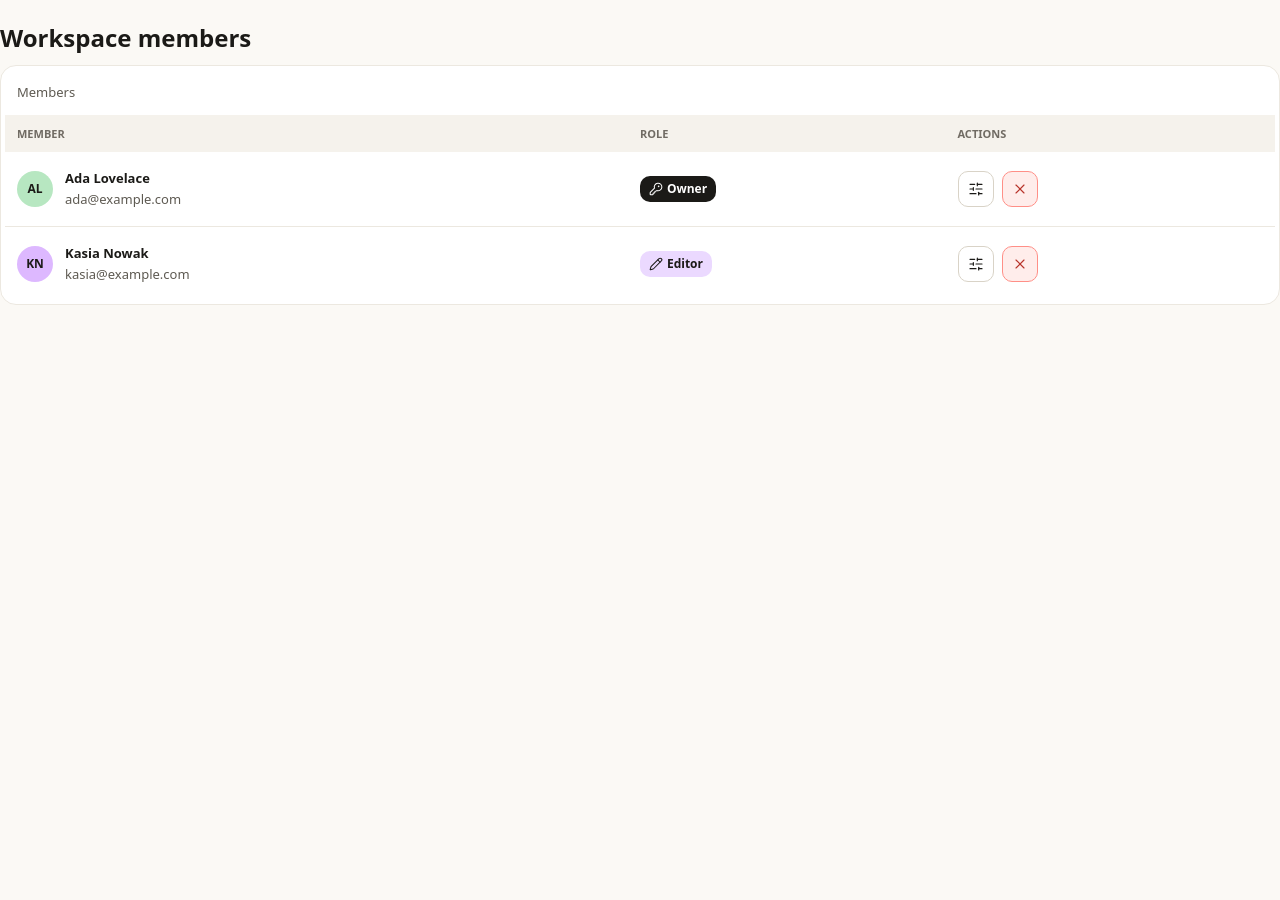
confirms removal with neutral copy, returns focus on Keep and Esc, and preserves last-owner errors
The image size is (1280, 900).
Click the button named "Remove Ada Lovelace" at (1020,189), box [1002,171,1038,207]
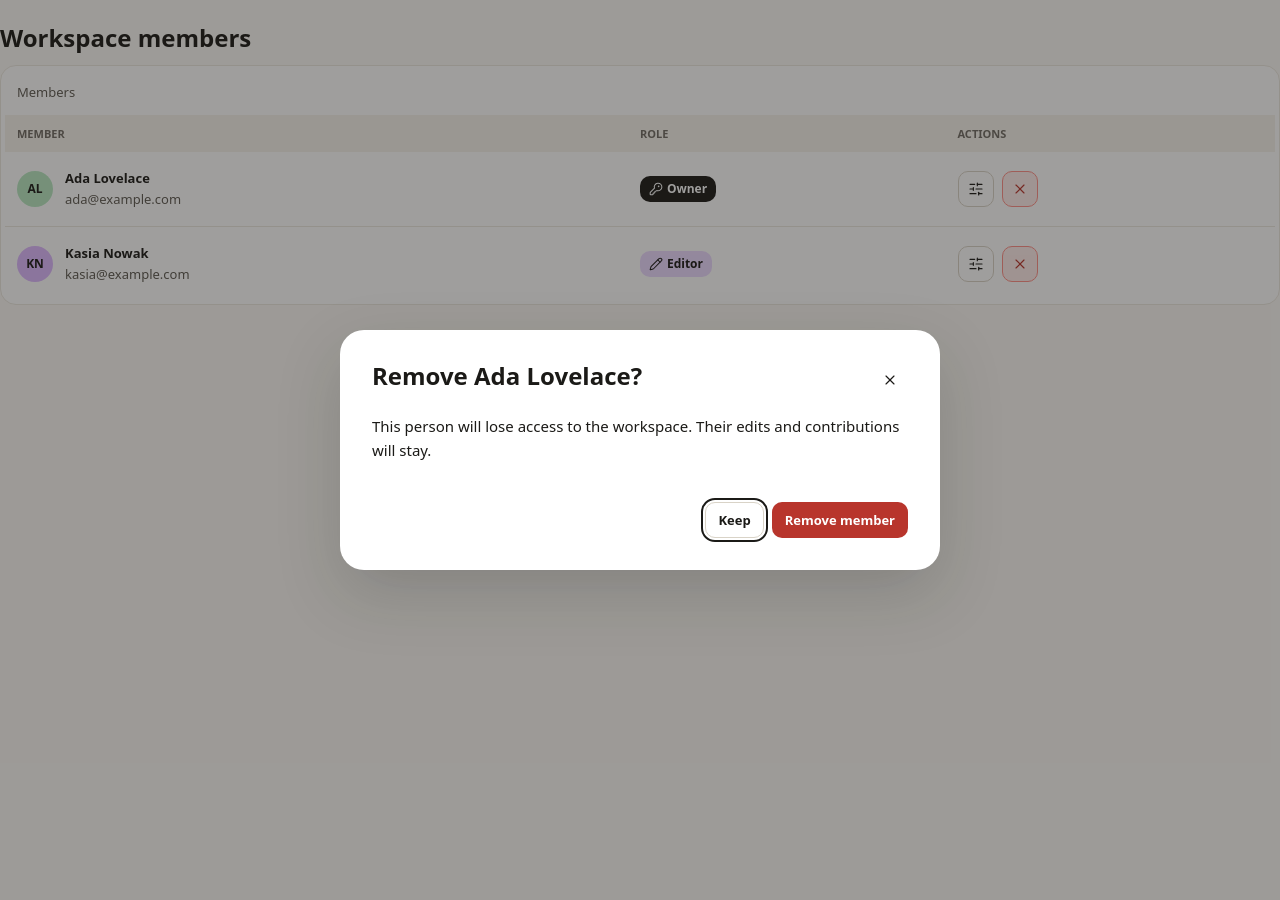
Expected: the dialog "Remove Ada Lovelace?" shows "This person will lose access", [372,416,899,460]
Expected: the dialog "Remove Ada Lovelace?" shows "Their edits and contributions will stay.", [372,416,899,460]
Click the button "Keep" at (735,520), box [706,502,764,538]
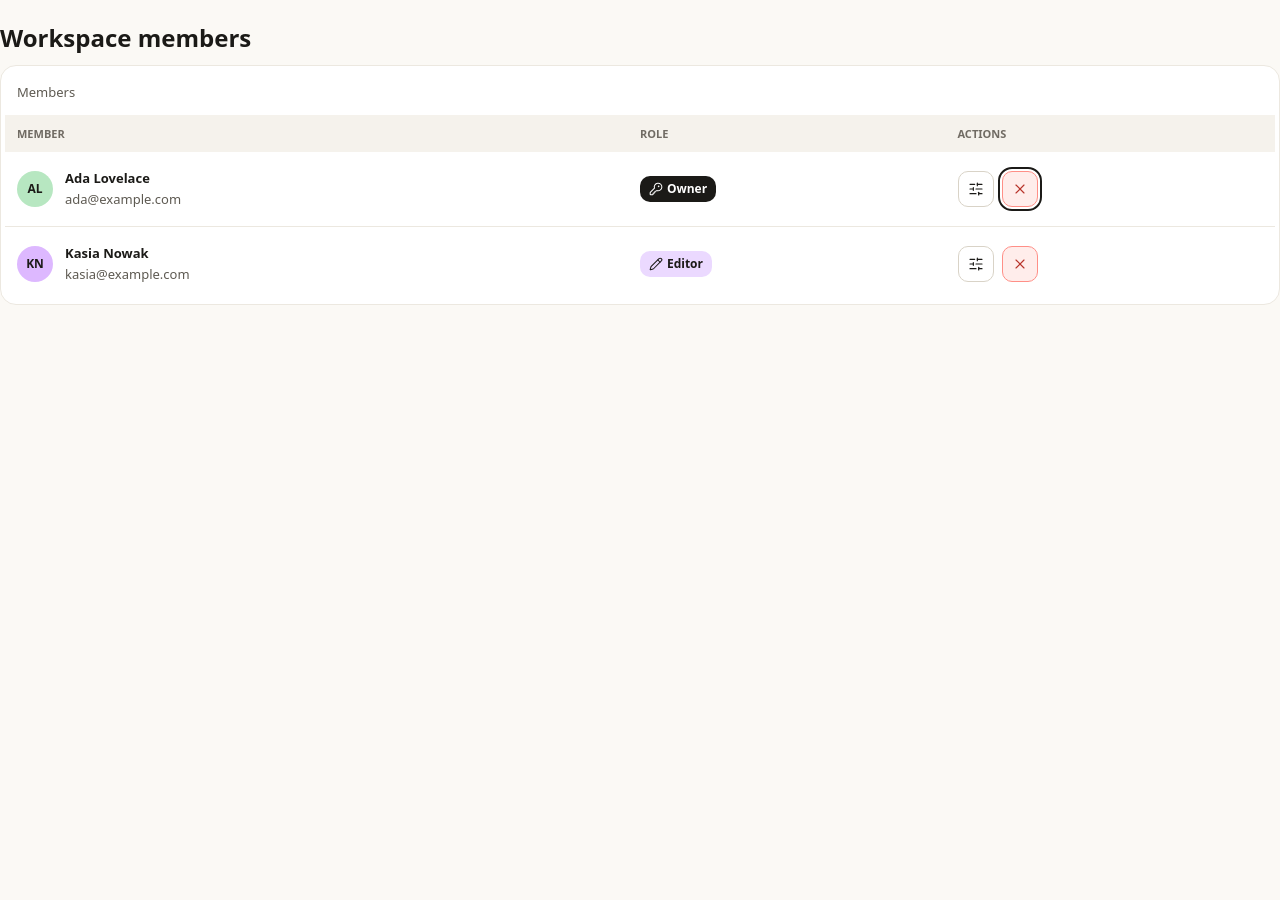
Click the button named "Remove Ada Lovelace" at (1020,189), box [1002,171,1038,207]
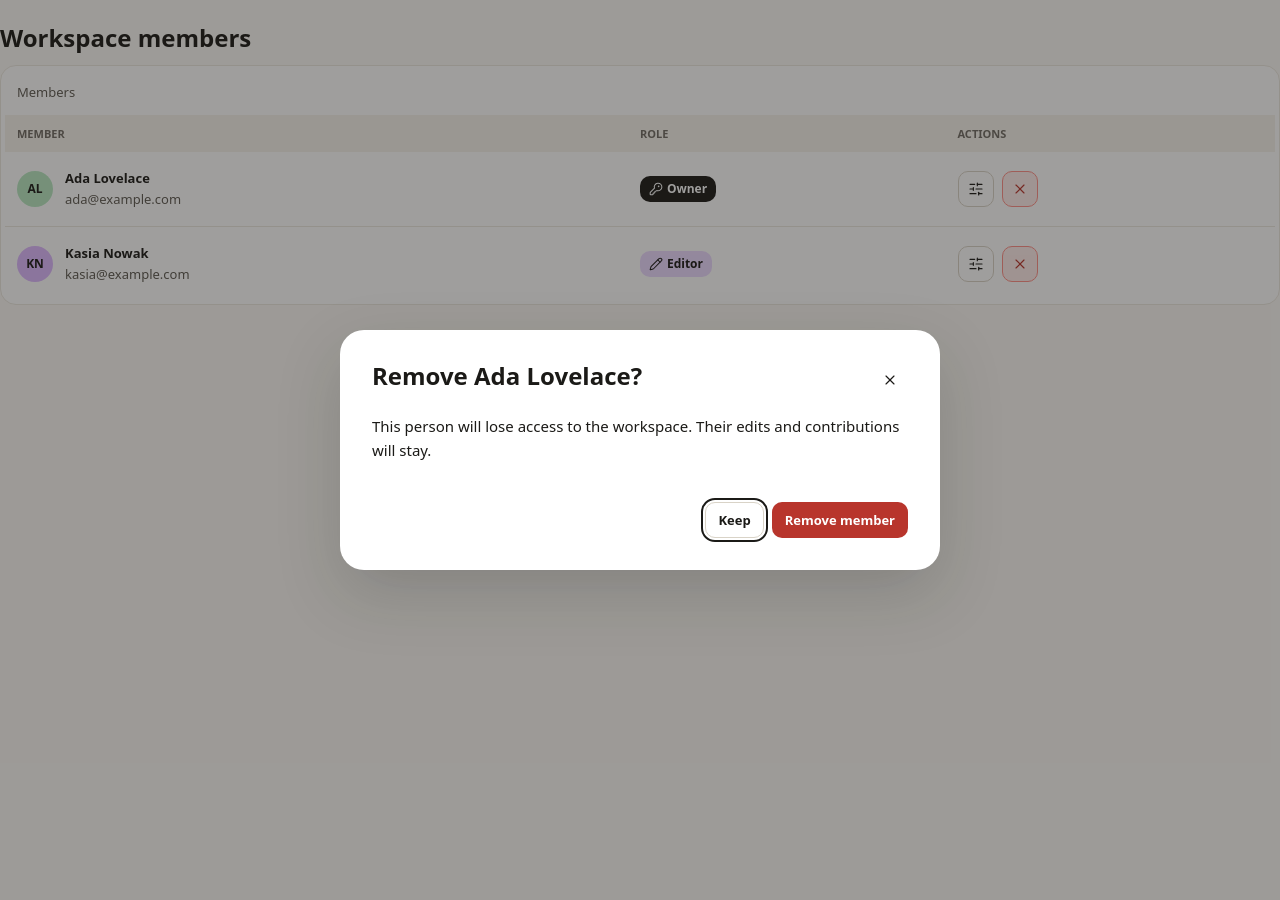
Press Escape
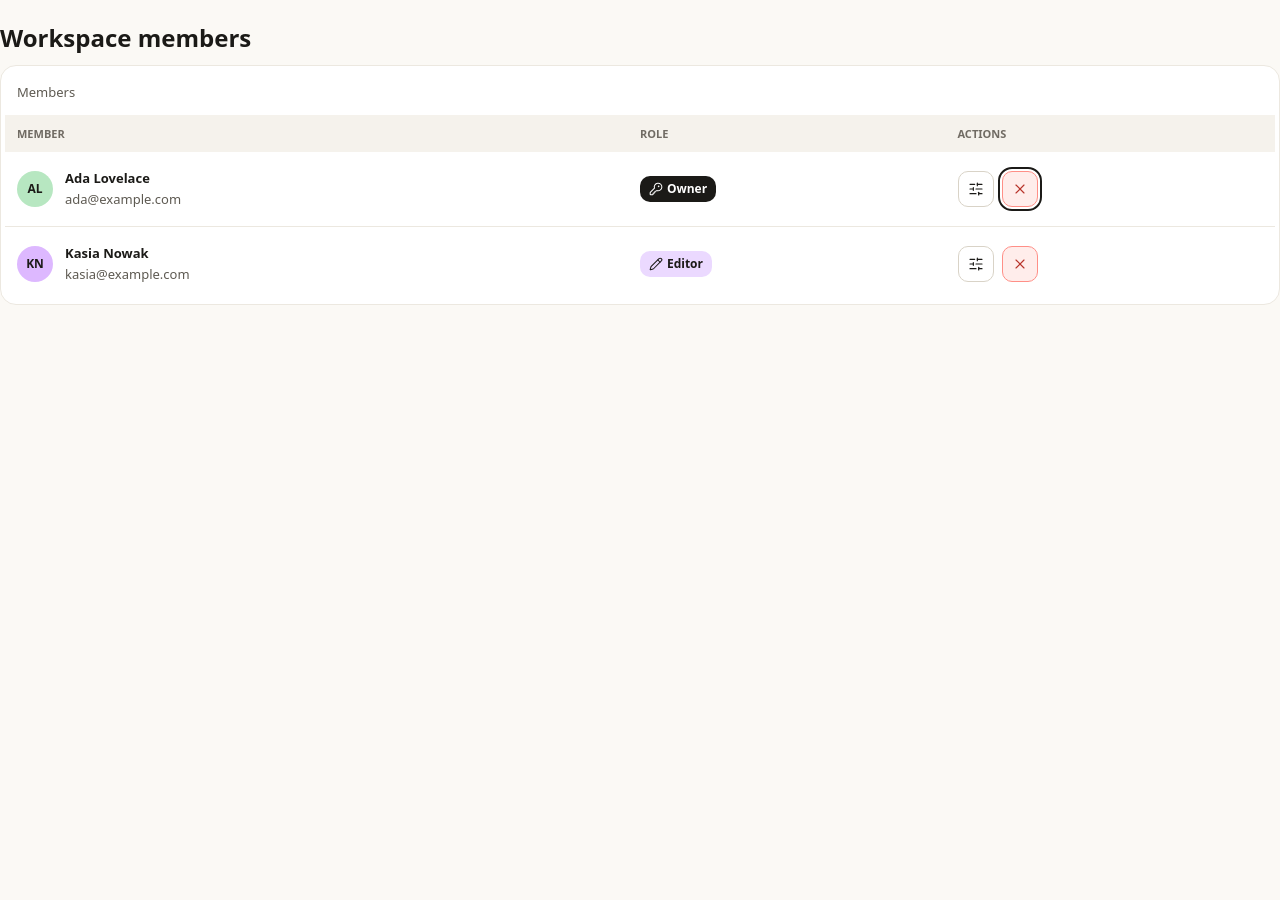
Click the button named "Remove Ada Lovelace" at (1020,189), box [1002,171,1038,207]
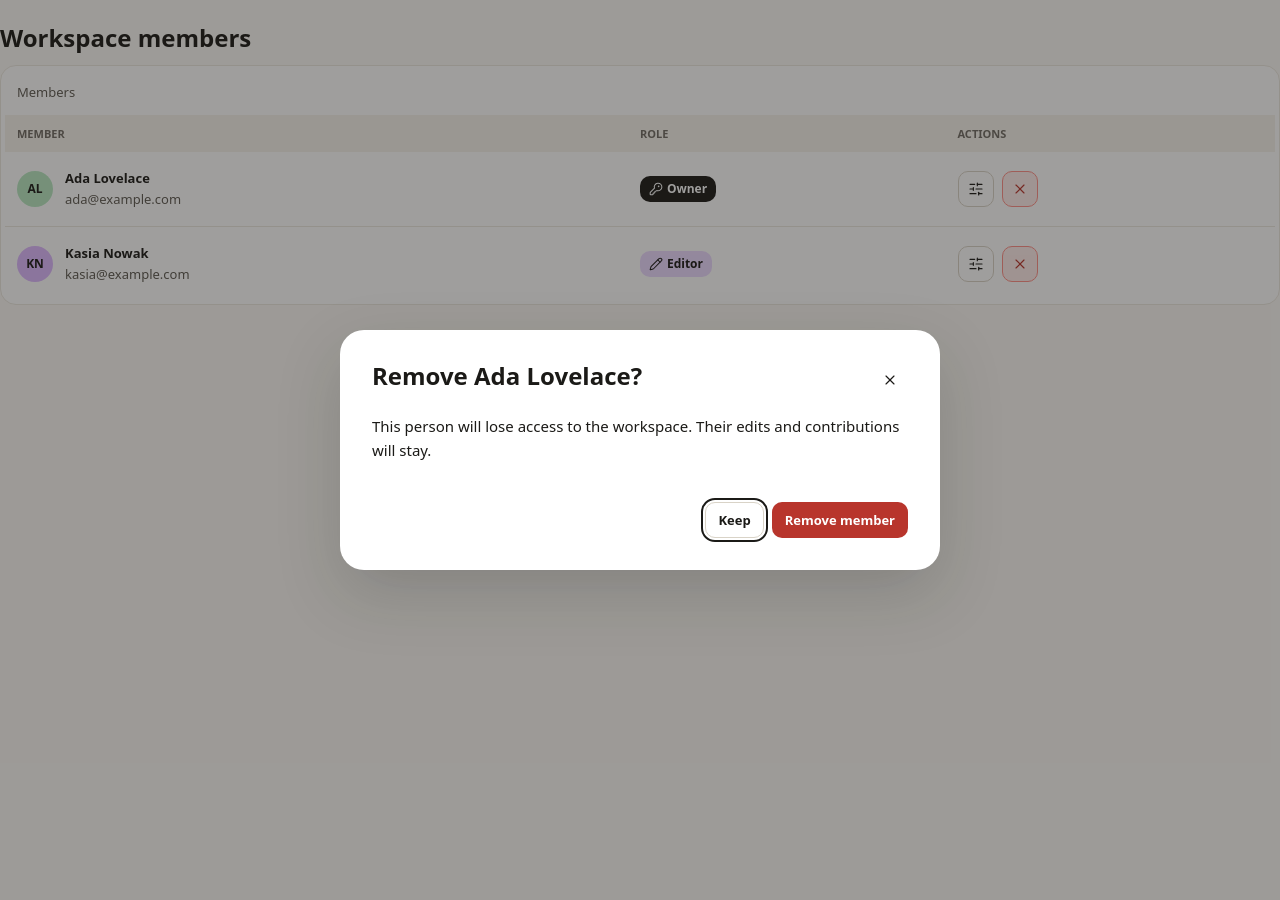
Click the button "Remove member" at (840,520), box [772,502,908,538]
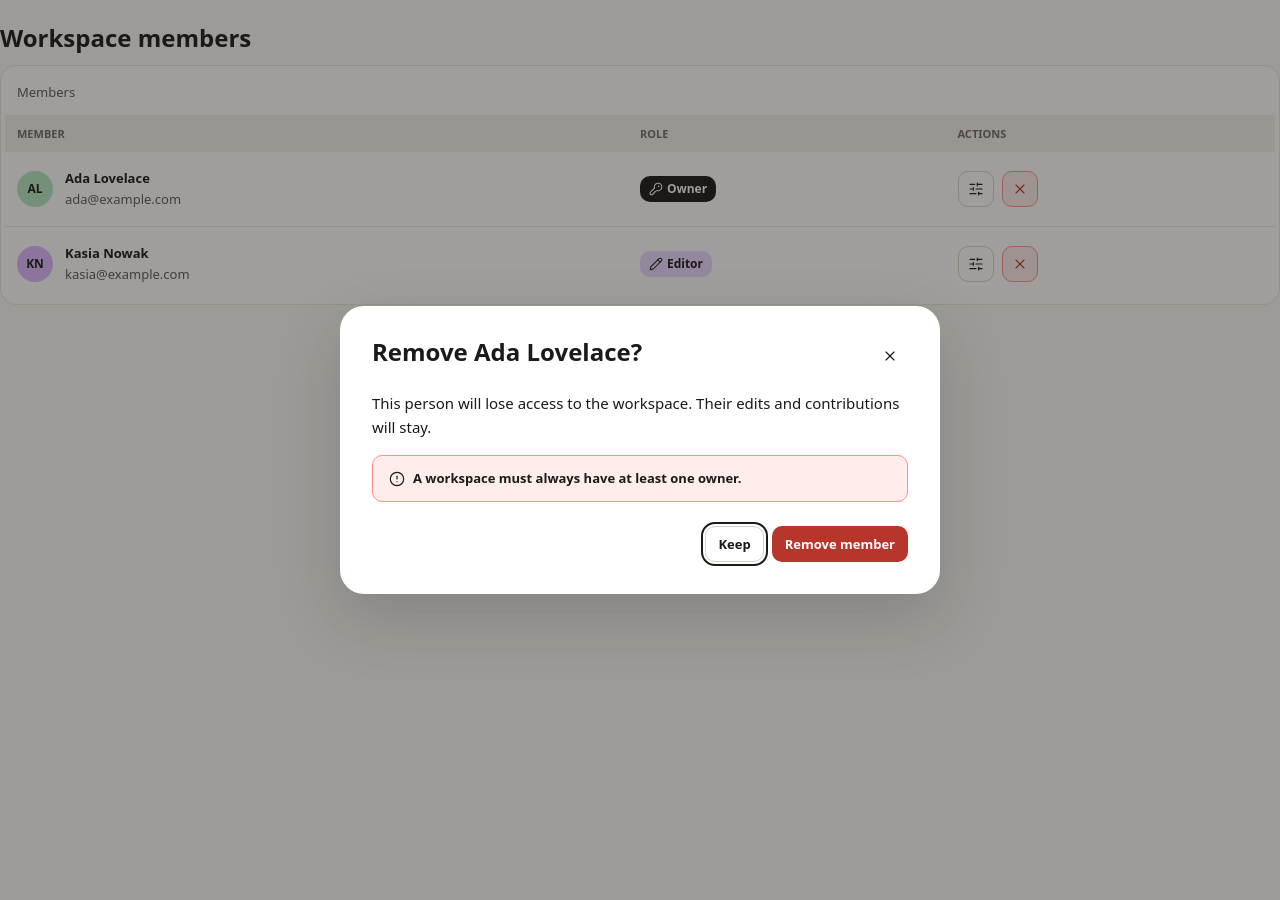
Expected: the table shows "ada@example.com", [65,190,181,208]
Expected: the message shows "at least one owner", [413,469,741,487]
